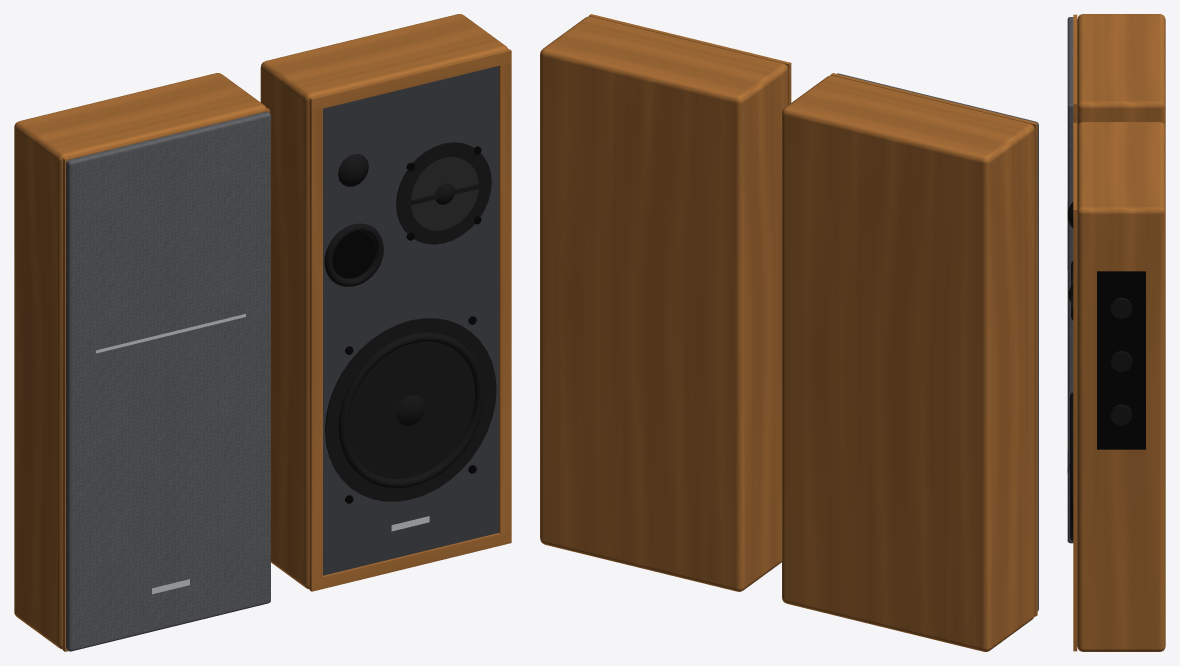
File: altavoces.glb
The picture shows the model from 3 angles, left to right: view 1: azimuth 30°, elevation 25°; view 2: azimuth 150°, elevation 25°; view 3: azimuth 270°, elevation 25°; orthographic projection. The views are drawn at different scales.
Parts seen in each view (by area): view 1: altavoces; view 2: altavoces; view 3: altavoces.
Part boxes in pixels (x1,y1,x2,y2): altavoces: (14,14,511,651); altavoces: (540,14,1038,651); altavoces: (1067,14,1165,651).
Bounding box in the file's own units: 0.48 × 0.5 × 0.1002.
7 materials, 2 textured.
